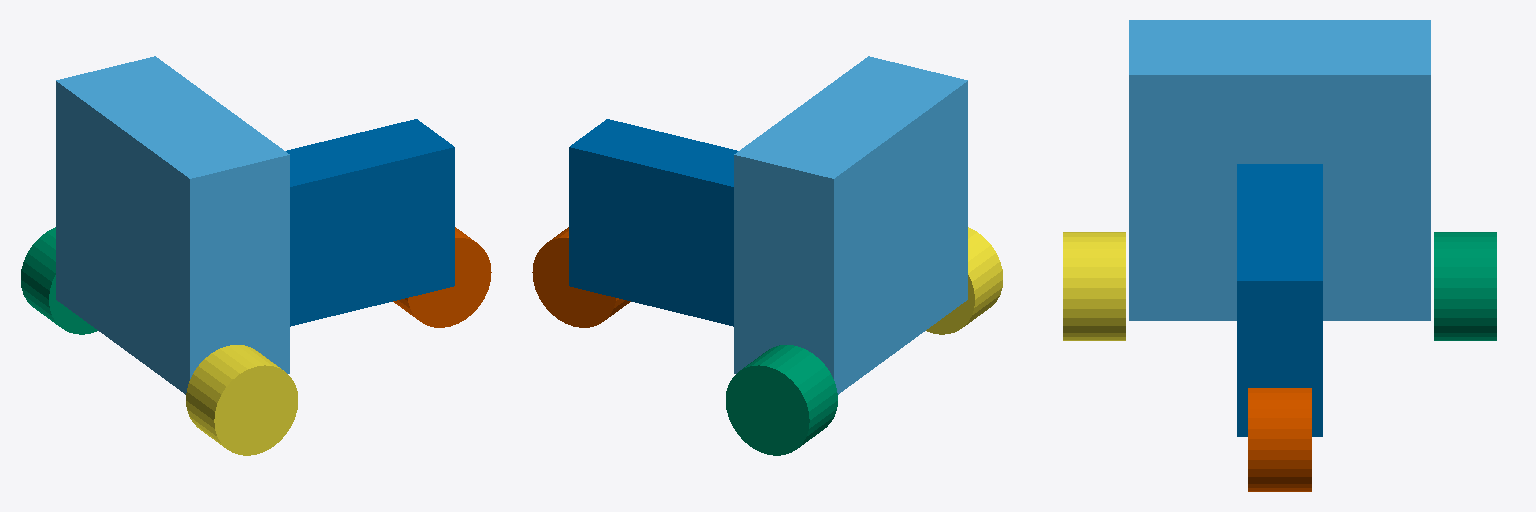
The robot description file, URDF, robot "tricycle_model":
<?xml version="1.0" ?>

<robot name="tricycle_model">
  <link name="base_dummy">
  </link>

  <joint name="base_link_joint" type="fixed">
    <origin rpy="0 0 0" xyz="0 0 0"/>
    <parent link="base_dummy"/>
    <child link="Chassis"/>
  </joint>

  <link name="Chassis">
    <inertial>
      <origin rpy="0 0 0" xyz="0 0 0"/>
      <mass value="0.388"/>
      <inertia ixx="0.001787" ixy="0" ixz="0" iyy="0.000979" iyz="0" izz="0.001172"/>
    </inertial>
    <collision>
      <geometry>
        <box size="0.075 0.175 0.157"/>
      </geometry>
      <origin rpy="0 0 0" xyz="0 0 0"/>
    </collision>
    <visual>
      <geometry>
        <box size = "0.075 0.175 0.157"/>
      </geometry>
      <origin rpy="0 0 0" xyz="0 0 0"/>
    </visual>
  </link>

  <link name="Right_wheel">
    <inertial>
      <origin rpy="0 0 0" xyz="0 0 0"/>
      <mass value="0.03770"/>
      <inertia ixx="0.000013712" ixy="0" ixz="0" iyy="0.000018823" iyz="0" izz="0.000013712"/>
    </inertial>
    <collision>
      <geometry>
        <cylinder length="0.037" radius="0.0316"/>
      </geometry>
      <origin rpy="1.5708 0 0" xyz="0 0 0"/>
    </collision>
    <visual>
      <geometry>
        <cylinder length="0.037" radius="0.0316"/>
      </geometry>
      <origin rpy="1.5708 0 0" xyz="0 0 0"/>
    </visual>
  </link>

  <joint name="Right_wheel_Joint" type="continuous">
    <parent link="Chassis"/>
    <child link="Right_wheel"/>
    <origin rpy="0 0 0" xyz="-0.010 0.1075 -0.0785"/>
    <limit effort="100000" velocity="100000"/>
    <axis xyz="0 1 0"/>
  </joint>

  <link name="Left_wheel">
    <inertial>
      <origin rpy="0 0 0" xyz="0 0 0"/>
      <mass value="0.03770"/>
      <inertia ixx="0.000013712" ixy="0" ixz="0" iyy="0.000018823" iyz="0" izz="0.000013712"/>
    </inertial>
    <collision>
      <geometry>
        <cylinder length="0.037" radius="0.0316"/>
      </geometry>
      <origin rpy="1.5708 0 0" xyz="0 0 0"/>
    </collision>
    <visual>
      <geometry>
        <cylinder length="0.037" radius="0.0316"/>
      </geometry>
      <origin rpy="1.5708 0 0" xyz="0 0 0"/>
    </visual>
  </link>

  <joint name="Left_wheel_Joint" type="continuous">
    <parent link="Chassis"/>
    <child link="Left_wheel"/>
    <origin rpy="0 0 0" xyz="-0.010 -0.1075 -0.0785"/>
    <limit effort="100000" velocity="100000"/>
    <axis xyz="0 1 0"/>
  </joint>

  <link name="Front_body">
    <inertial>
      <origin rpy="0 0 0" xyz="0 0 0"/>
      <mass value="0.151"/>
      <inertia ixx="0.000157" ixy="0" ixz="0" iyy=".000448" iyz="0" izz=".000354"/>
    </inertial>
    <collision>
      <geometry>
        <box size="0.160 0.050 0.100"/>
      </geometry>
      <origin rpy="0 0 0" xyz="0 0 0"/>
    </collision>
    <visual>
      <geometry>
        <box size = "0.160 0.050 0.100"/>
      </geometry>
      <origin rpy="0 0 0" xyz="0 0 0"/>
    </visual>
  </link>

  <joint name="Front_body_Joint" type="fixed">
    <parent link="Chassis"/>
    <child link="Front_body"/>
    <origin rpy="0 0 0" xyz="0.1175 0.0 -0.0285"/>
  </joint>

  <link name="Front_wheel">
    <inertial>
      <origin rpy="0 0 0" xyz="0 0 0"/>
      <mass value="0.03770"/>
      <inertia ixx="0.000013712" ixy="0" ixz="0" iyy="0.000018823" iyz="0" izz="0.000013712"/>
    </inertial>
    <collision>
      <geometry>
        <cylinder length="0.037" radius="0.0316"/>
      </geometry>
      <origin rpy="1.5708 0 0" xyz="0 0 0"/>
    </collision>
    <visual>
      <geometry>
        <cylinder length="0.037" radius="0.0316"/>
      </geometry>
      <origin rpy="1.5708 0 0" xyz="0 0 0"/>
    </visual>
  </link>

  <joint name="Front_wheel_Joint" type="continuous">
    <parent link="Chassis"/>
    <child link="Front_wheel"/>
    <origin rpy="0 0 0" xyz="0.197 0.0 -0.0785"/>
    <limit effort="100000" velocity="100000"/>
    <axis xyz="0 1 0"/>
  </joint>


  <gazebo reference="Left_wheel">
    <mu1>0.90</mu1>
    <mu2>0.90</mu2>
    <kp>100000000</kp>
    <kd>10</kd>
    <material>Gazebo/Red</material>
  </gazebo>
  <gazebo reference="Right_wheel">
    <mu1>0.90</mu1>
    <mu2>0.90</mu2>
    <kp>100000000</kp>
    <kd>10</kd>
    <material>Gazebo/Green</material>
  </gazebo>
  <gazebo reference="Front_wheel">
    <mu1>0.90</mu1>
    <mu2>0.90</mu2>
    <kp>100000000</kp>
    <kd>10</kd>
    <material>Gazebo/Blue</material>
  </gazebo>


  <ros2_control name="GazeboSystem" type="system">
    <hardware>
      <plugin>gazebo_ros2_control/GazeboSystem</plugin>
    </hardware>
    
    <joint name="Front_wheel_Joint">
      <command_interface name="velocity">
        <param name="min">-10</param>
        <param name="max">10</param>
      </command_interface>
      <state_interface name="position"/>
      <state_interface name="velocity"/>
      <state_interface name="effort"/>
    </joint>
    
  </ros2_control>


 <gazebo>
    <plugin filename="libgazebo_ros2_control.so" name="gazebo_ros2_control">
      <parameters>[local-path]/ros2_ws/src/tricycle/config/tricycle_position_velocity_controller.yaml</parameters>
    </plugin>
  </gazebo>

</robot>

--- Render facts (derived) ---
3 views of the same robot in one strip: view 1: azimuth 30°, elevation 25°; view 2: azimuth 150°, elevation 25°; view 3: azimuth 270°, elevation 25° (orthographic).
Model tricycle_model with 6 links and 5 joints (3 continuous, 2 fixed), rooted at base_dummy, posed all joints at 0.
Links seen in each view (by area): view 1: Chassis, Front_body, Left_wheel, Front_wheel, Right_wheel; view 2: Chassis, Front_body, Right_wheel, Front_wheel, Left_wheel; view 3: Chassis, Front_body, Right_wheel, Left_wheel, Front_wheel.
Link boxes in pixels (x1,y1,x2,y2): Chassis: [56, 56, 289, 394]; Front_body: [286, 119, 454, 326]; Left_wheel: [186, 345, 297, 455]; Front_wheel: [393, 227, 491, 327]; Right_wheel: [21, 227, 97, 334]; Chassis: [734, 56, 967, 394]; Front_body: [569, 119, 737, 326]; Right_wheel: [726, 345, 837, 455]; Front_wheel: [532, 227, 630, 327]; Left_wheel: [926, 227, 1002, 334]; Chassis: [1129, 20, 1430, 320]; Front_body: [1237, 164, 1322, 436]; Right_wheel: [1434, 232, 1496, 340]; Left_wheel: [1063, 232, 1125, 340]; Front_wheel: [1248, 388, 1311, 491].
Bounding box of the posed robot: 0.2702 × 0.252 × 0.1886 m (x, y, z).
Geometry: primitives only (box / cylinder / sphere), no mesh files.